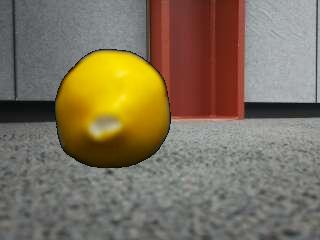lemon: (56, 49, 168, 166)
